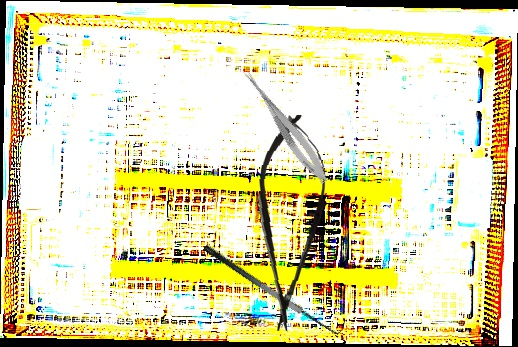Micro Scissor: (249, 112, 332, 334), (235, 66, 334, 187)
Spatula Surgical: (202, 233, 346, 342)
